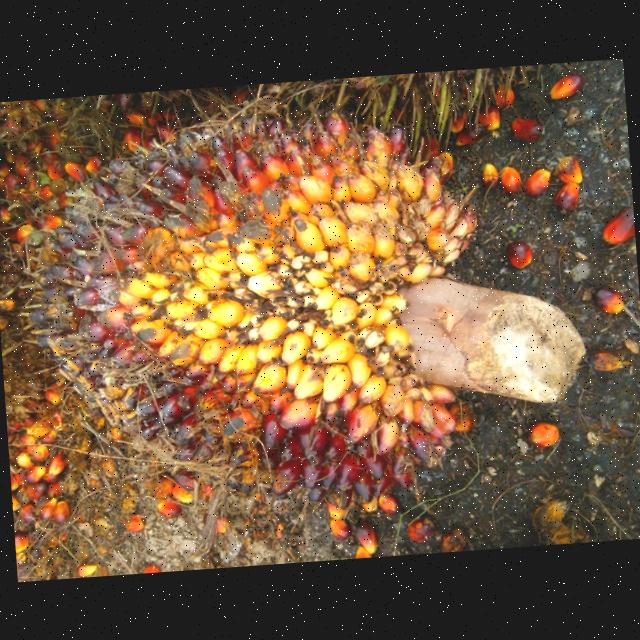Ripe: (64, 110, 474, 458)
